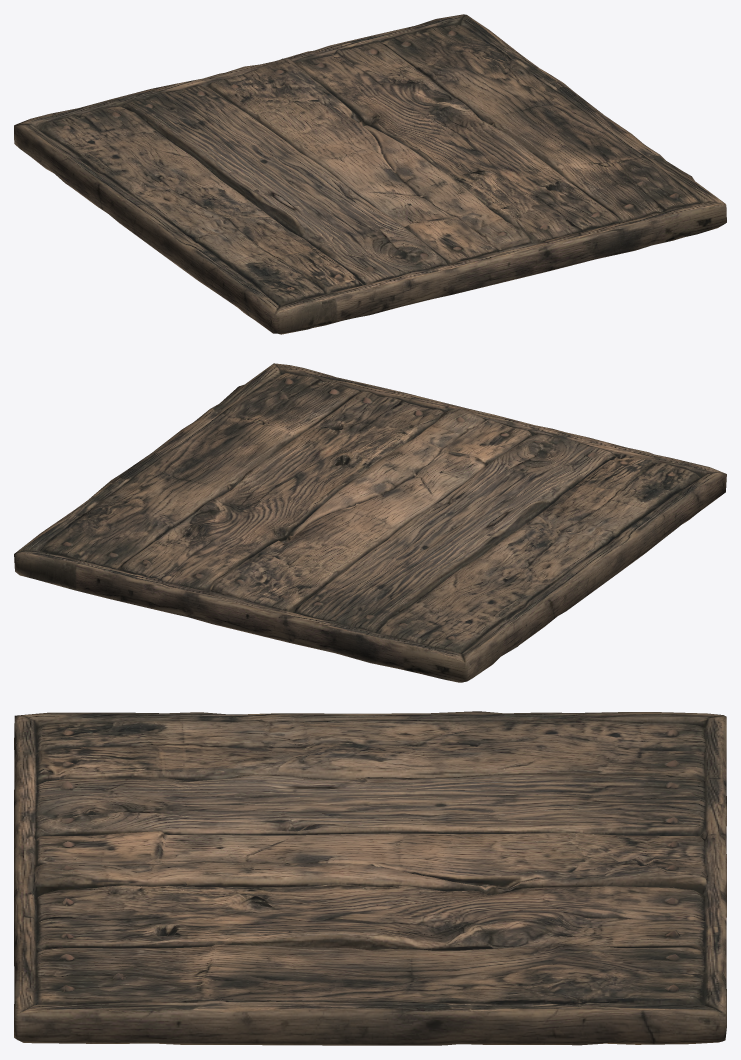
The model's file is wooden_floor_train.glb.
3 views of the same model, one above another, from view 1: azimuth 30°, elevation 25°; view 2: azimuth 150°, elevation 25°; view 3: azimuth 270°, elevation 25° (orthographic). The views are drawn at different scales.
Visible parts, largest first — view 1: Meshy_Mesh1.0; view 2: Meshy_Mesh1.0; view 3: Meshy_Mesh1.0.
Part boxes in pixels (x1,y1,x2,y2): Meshy_Mesh1.0: (14,14,726,334); Meshy_Mesh1.0: (14,363,726,682); Meshy_Mesh1.0: (14,711,726,1045).
Size of the model in its own units: 1.91 by 0.1792 by 1.91.
Materials: 1 (1 with a texture image).
